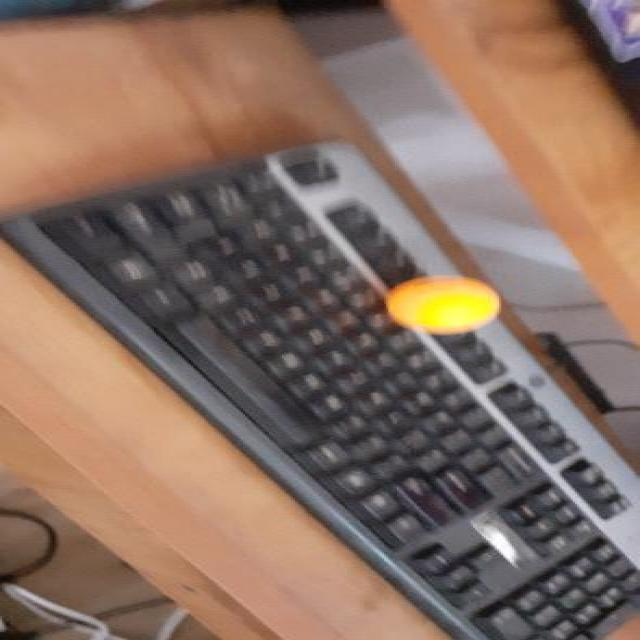oball: (388, 274, 504, 334)
